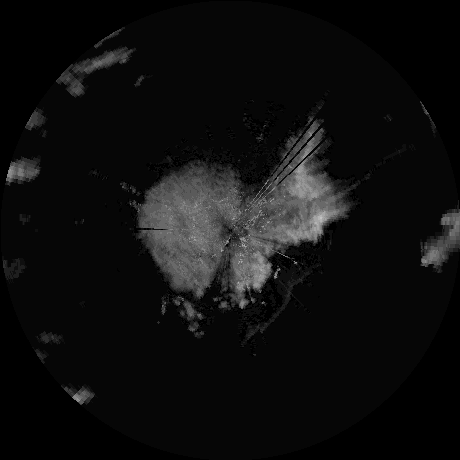frontgust: (249, 268, 312, 333)
